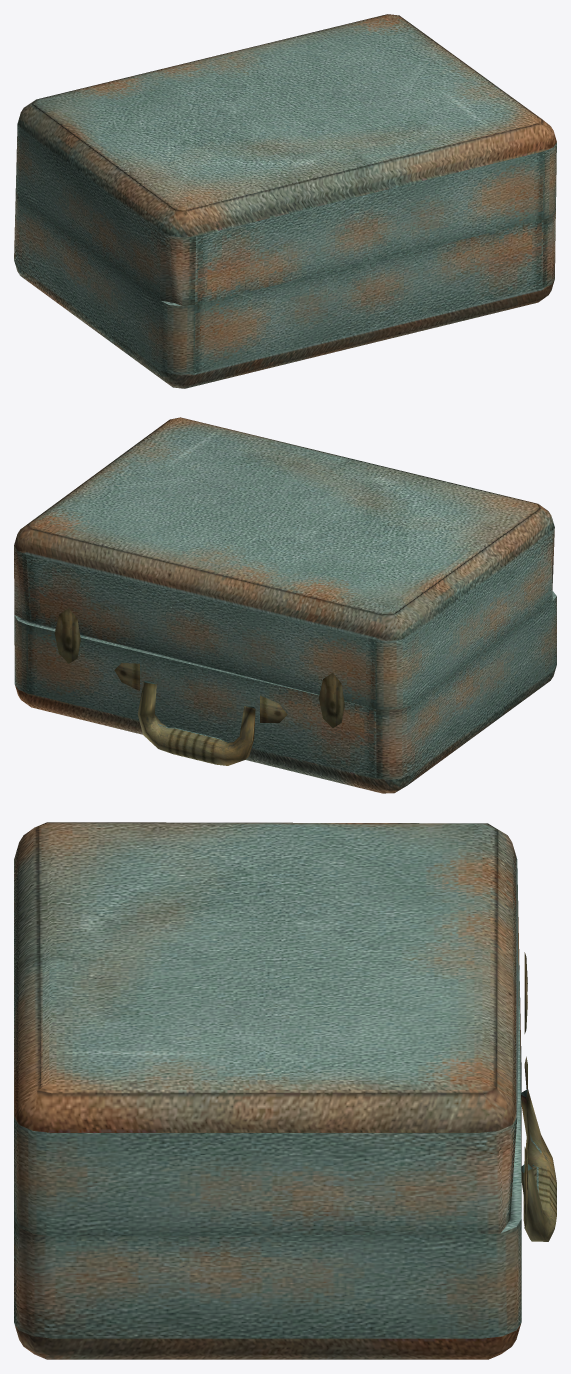
Rendered from suitcase.fbx.
3 views of the same model, one above another, from view 1: azimuth 30°, elevation 25°; view 2: azimuth 150°, elevation 25°; view 3: azimuth 270°, elevation 25° (orthographic). The views are drawn at different scales.
Parts seen in each view (by area): view 1: train_lugage_closed; view 2: train_lugage_closed; view 3: train_lugage_closed.
Boxes of the visible parts, bbox=[...] form: train_lugage_closed: bbox=[14, 14, 556, 388]; train_lugage_closed: bbox=[14, 417, 556, 793]; train_lugage_closed: bbox=[14, 822, 556, 1359].
Size of the model in its own units: 5429 by 2400 by 4279.
